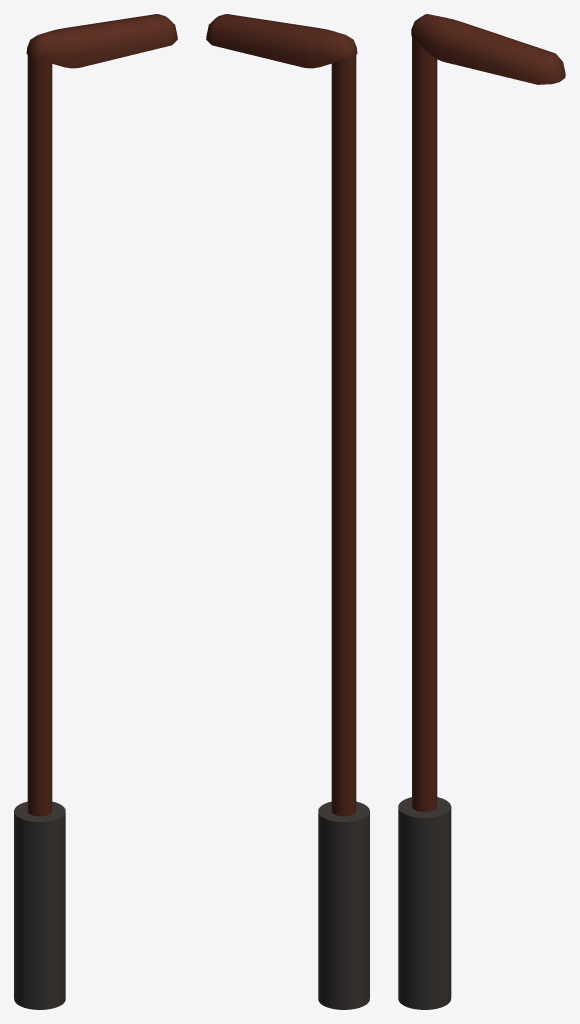
Rendered from streetlamp.glb.
3 views of the same model, side by side, from view 1: azimuth 30°, elevation 25°; view 2: azimuth 150°, elevation 25°; view 3: azimuth 330°, elevation 25° (orthographic). The views are drawn at different scales.
Parts seen in each view (by area): view 1: Lamp.col; view 2: Lamp.col; view 3: Lamp.col.
Part boxes in pixels (x1,y1,x2,y2): Lamp.col: (14,14,177,1009); Lamp.col: (206,14,369,1009); Lamp.col: (398,14,565,1009).
Bounding box in the file's own units: 1.75 × 10.26 × 0.5.
